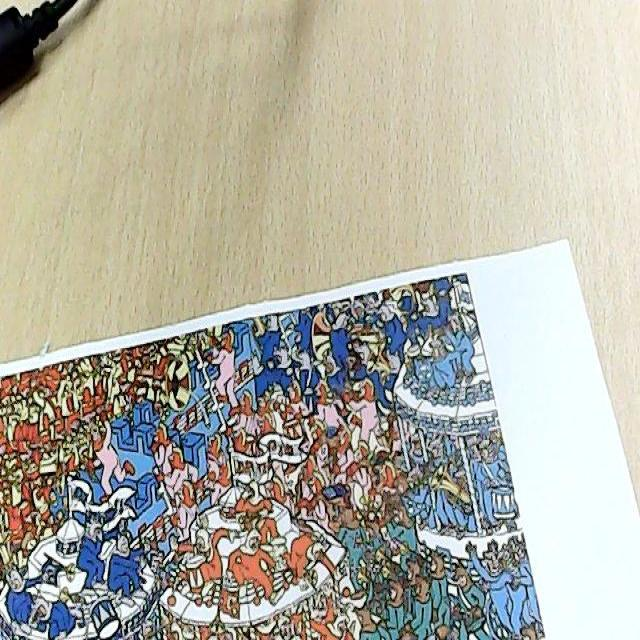waldo: (386, 446, 406, 478)
